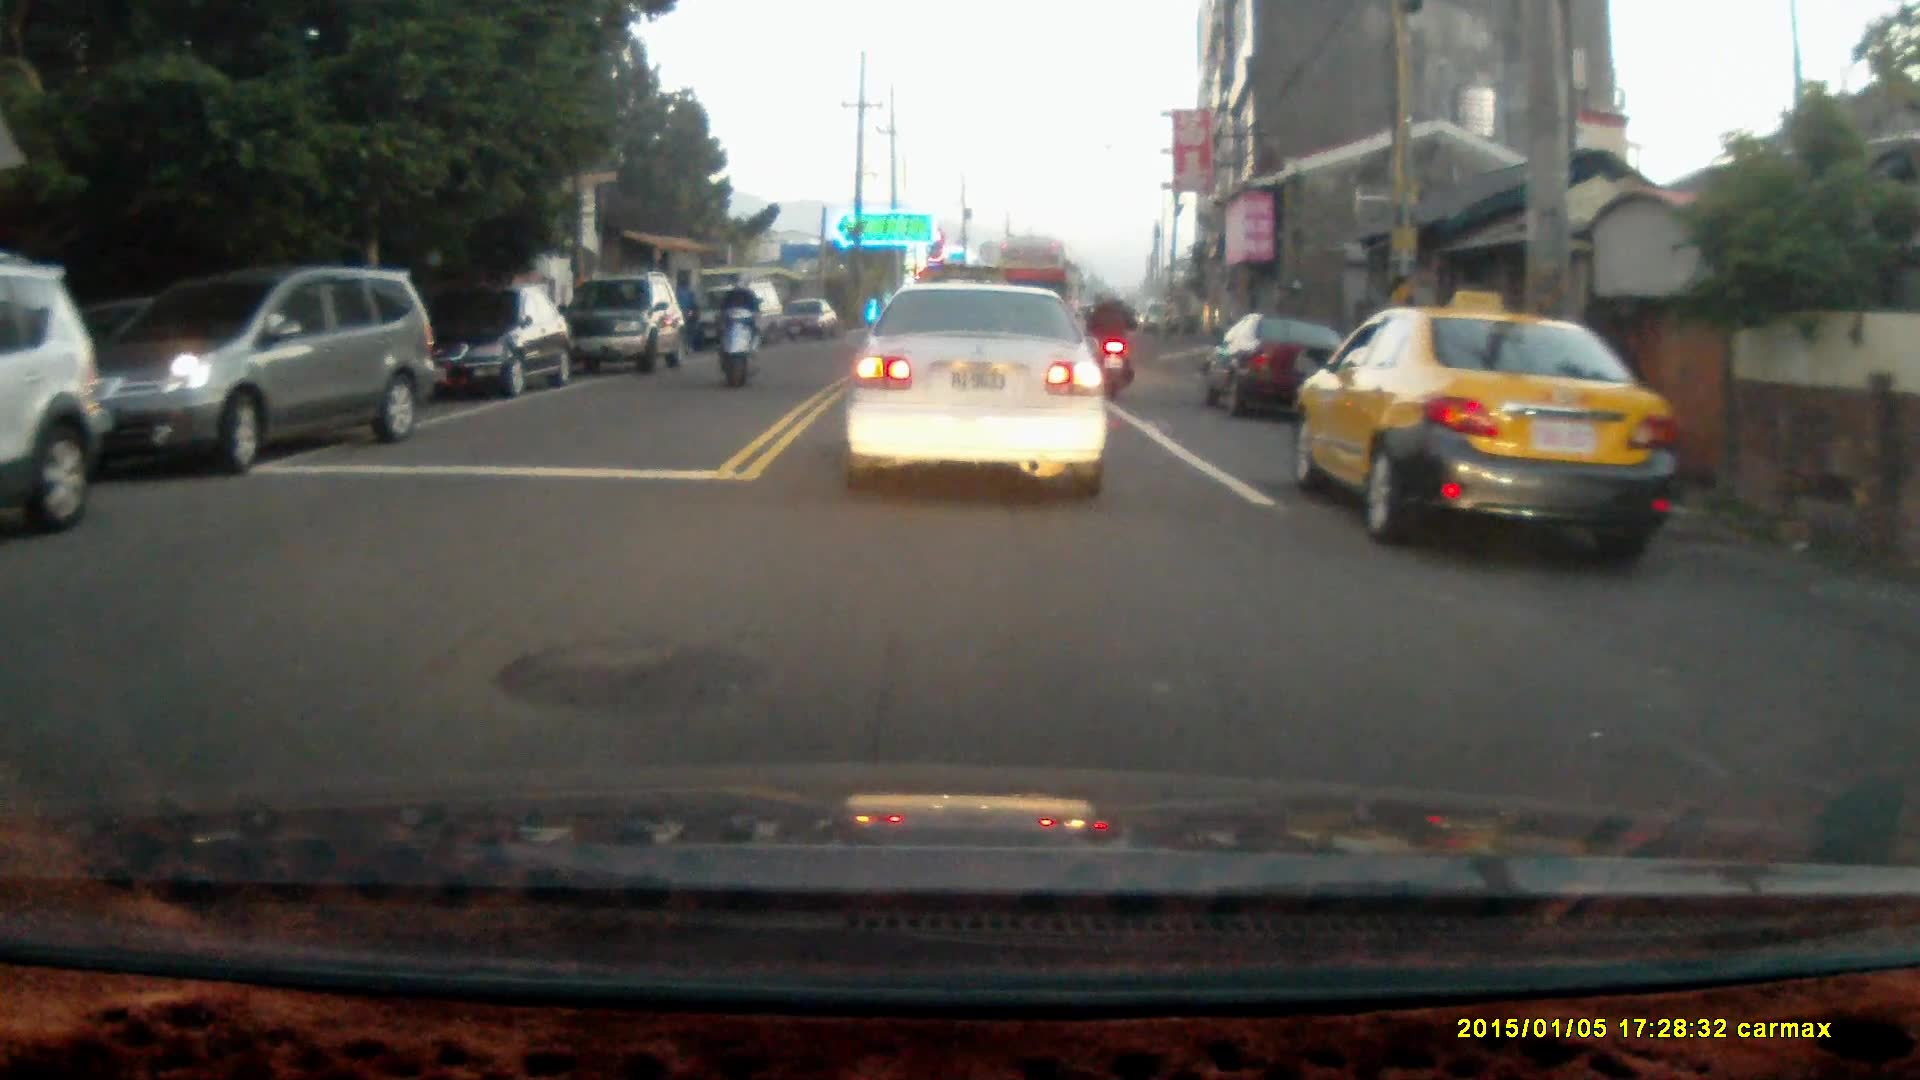rider: (1081, 282, 1139, 405), (709, 268, 759, 391)
vehicle: (1287, 306, 1677, 562), (73, 272, 439, 478), (840, 282, 1116, 504), (1, 255, 94, 547), (411, 284, 568, 401), (1208, 310, 1347, 417), (560, 275, 685, 376), (690, 288, 780, 356), (775, 298, 838, 343)
